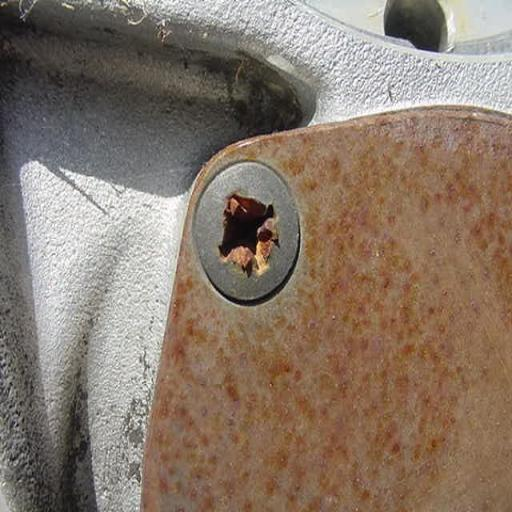Phillips: (191, 157, 302, 308)
